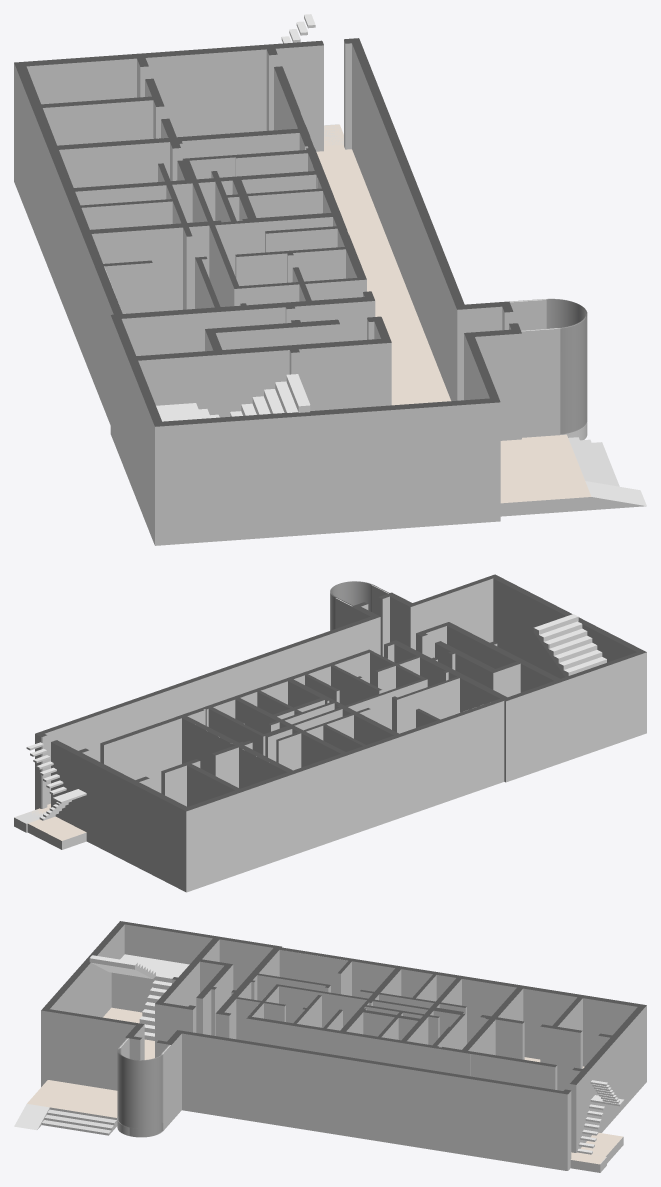
The picture shows the model from 3 angles, top to bottom: view 1: azimuth 30°, elevation 25°; view 2: azimuth 150°, elevation 25°; view 3: azimuth 270°, elevation 25°; orthographic projection. The views are drawn at different scales.
Visible parts, largest first — view 1: 369310, 2ND_FLOORCOE, 5TH_FLOORCOE, 4TH_FLOORCOE, 3RD_FLOORCOE, 1ST_FLOORCOE; view 2: 5TH_FLOORCOE, 2ND_FLOORCOE, 369310, 4TH_FLOORCOE, 1ST_FLOORCOE, 3RD_FLOORCOE, Component#1.002, Component#1.003; view 3: 2ND_FLOORCOE, 5TH_FLOORCOE, 369310, 4TH_FLOORCOE, 3RD_FLOORCOE, 1ST_FLOORCOE, Component#1.002.
Part boxes in pixels (box(x1,y1,x2,y2)): 369310: box(26, 41, 646, 545); 2ND_FLOORCOE: box(15, 38, 586, 433); 5TH_FLOORCOE: box(14, 38, 586, 544); 4TH_FLOORCOE: box(57, 132, 586, 431); 3RD_FLOORCOE: box(17, 41, 586, 404); 1ST_FLOORCOE: box(15, 39, 591, 503); 5TH_FLOORCOE: box(14, 576, 645, 892); 2ND_FLOORCOE: box(31, 574, 645, 815); 369310: box(27, 581, 646, 849); 4TH_FLOORCOE: box(196, 583, 606, 770); 1ST_FLOORCOE: box(28, 574, 646, 840); 3RD_FLOORCOE: box(41, 575, 527, 809); Component#1.002: box(26, 742, 85, 820); Component#1.003: box(28, 742, 86, 820); 2ND_FLOORCOE: box(42, 921, 645, 1172); 5TH_FLOORCOE: box(44, 921, 646, 1172); 369310: box(14, 961, 637, 1163); 4TH_FLOORCOE: box(90, 955, 516, 1136); 3RD_FLOORCOE: box(53, 925, 645, 1136); 1ST_FLOORCOE: box(27, 921, 638, 1163); Component#1.002: box(577, 1081, 624, 1154).
Size of the model in its own units: 22.02 by 4.75 by 33.63.
